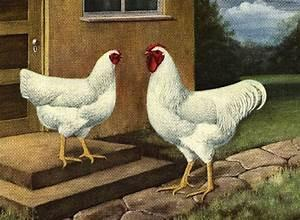hen: (142, 42, 267, 205), (18, 47, 123, 168)
